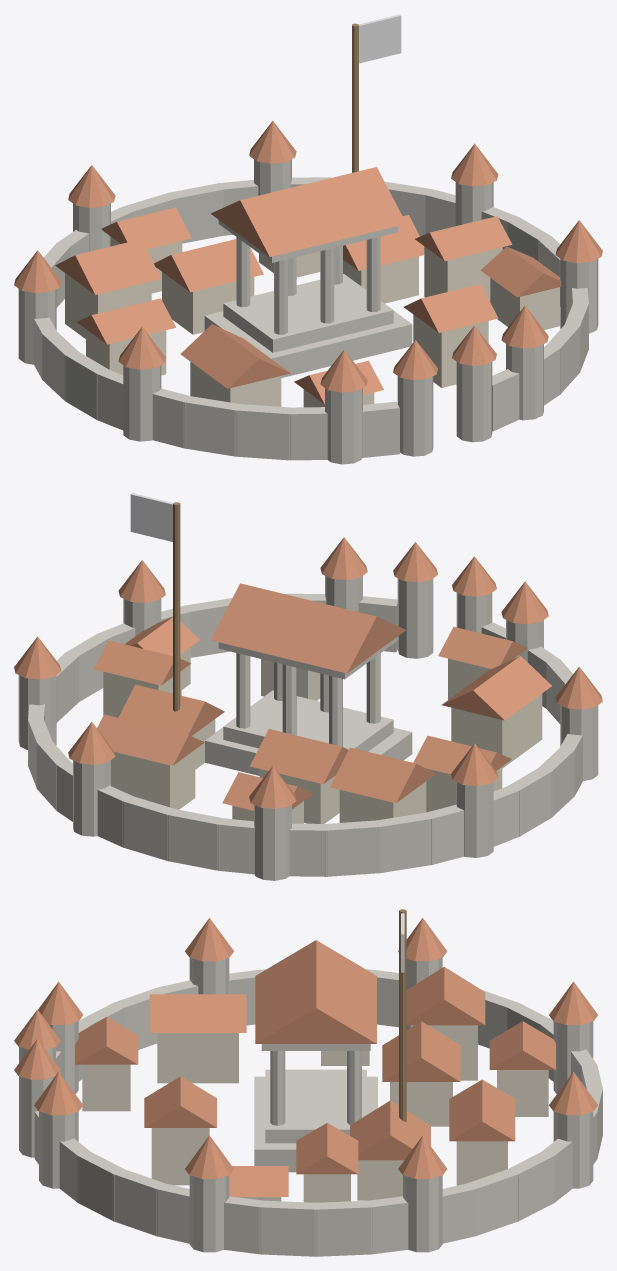
The model's file is civ_city_ancient_city.glb.
The picture shows the model from 3 angles, top to bottom: view 1: azimuth 30°, elevation 25°; view 2: azimuth 150°, elevation 25°; view 3: azimuth 270°, elevation 25°; orthographic projection. The views are drawn at different scales.
Visible parts, largest first — view 1: civ_city_ancient_city; view 2: civ_city_ancient_city; view 3: civ_city_ancient_city.
Boxes of the visible parts, x1,y1,x2,y2 form: civ_city_ancient_city: (14,14,602,464); civ_city_ancient_city: (14,493,602,880); civ_city_ancient_city: (14,909,602,1256).
Size of the model in its own units: 4.63 by 2.4 by 4.76.
